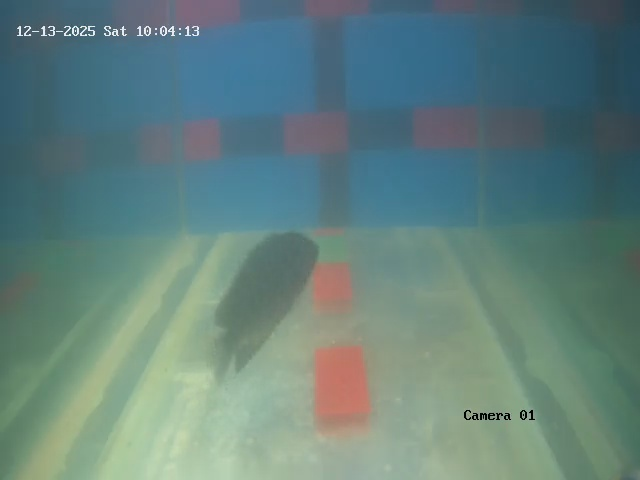fish: (211, 221, 324, 373)
